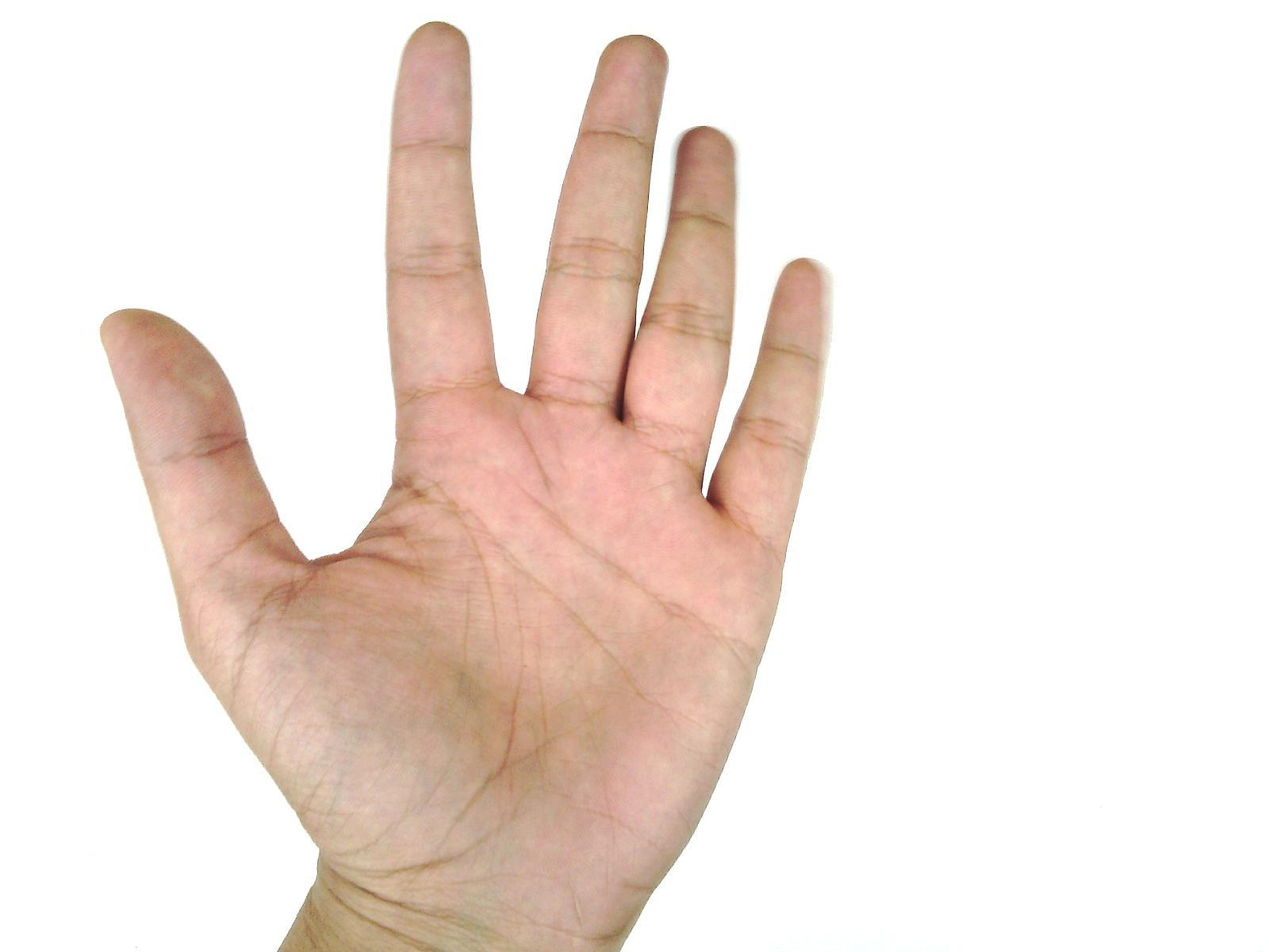open_palm: (98, 21, 837, 950)
